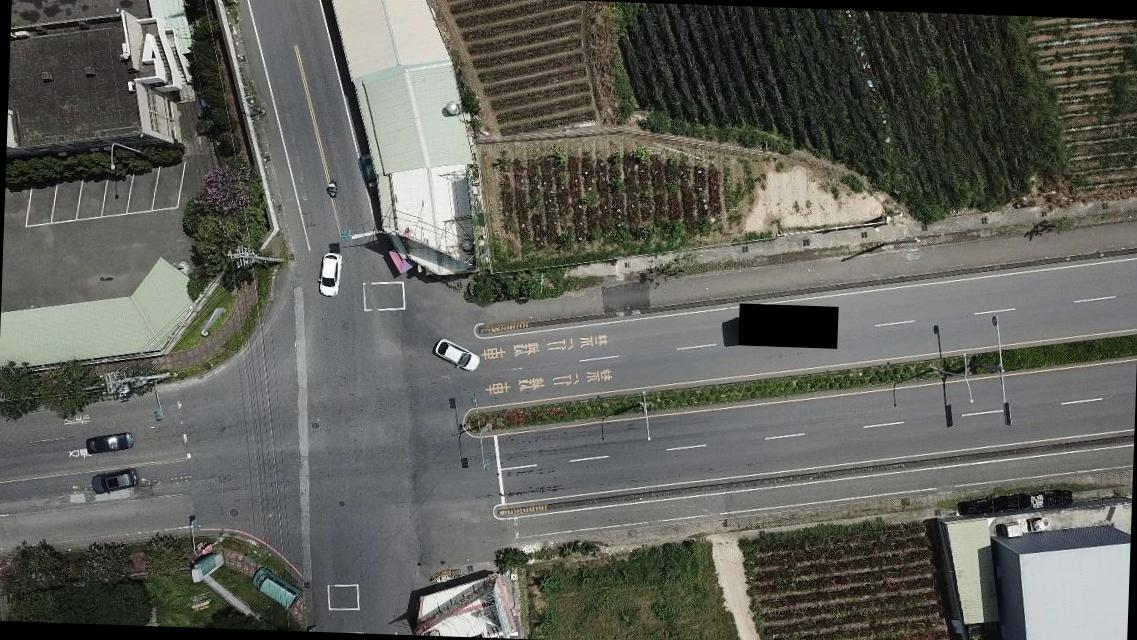vehicle: (251, 568, 300, 606), (432, 337, 480, 372), (88, 466, 136, 495), (314, 251, 342, 299), (83, 431, 131, 455)
